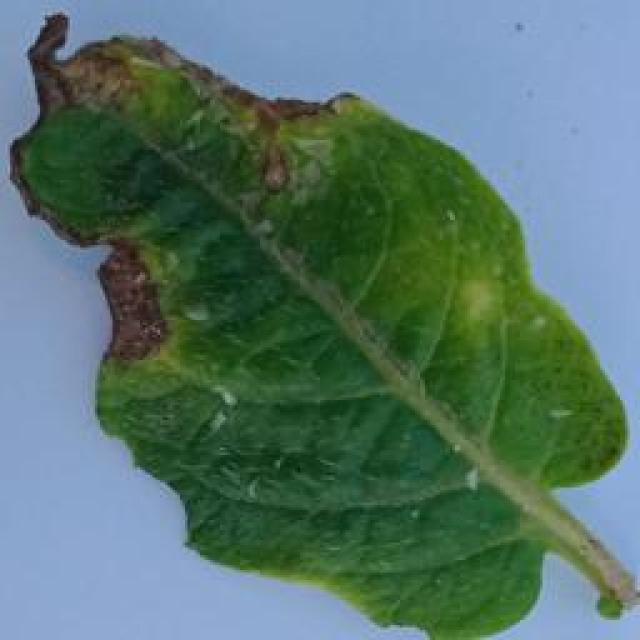Potato_Late_Blight: (12, 10, 640, 635)
